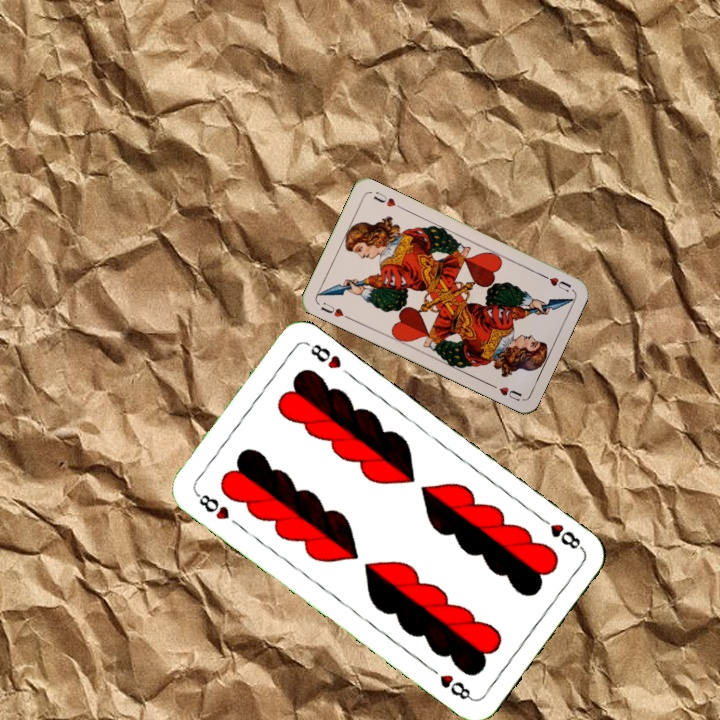H8: (535, 512, 586, 553), (191, 487, 232, 523)
HU: (536, 270, 574, 294), (317, 298, 353, 322)
